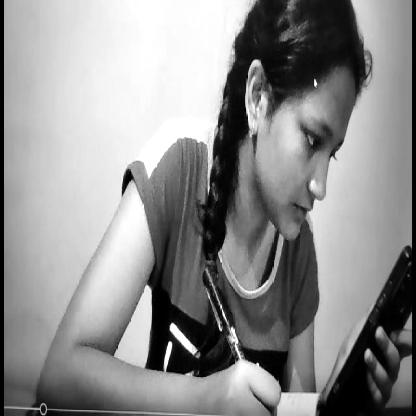Distracted: (225, 0, 365, 239)
